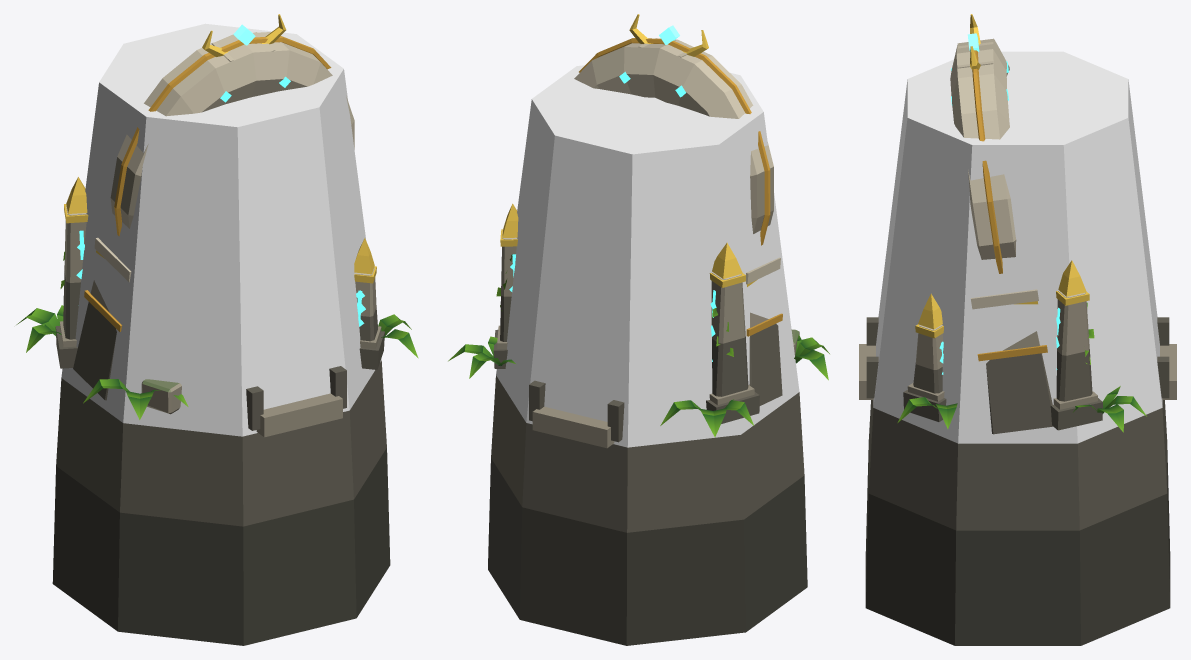
The model's file is ancient_celestial_moon_dial.glb.
3 renders of one model, left to right at view 1: azimuth 30°, elevation 25°; view 2: azimuth 150°, elevation 25°; view 3: azimuth 270°, elevation 25°, orthographic. The views are drawn at different scales.
Visible parts, largest first — view 1: ancient_celestial_moon_dial, col_moondial_base; view 2: ancient_celestial_moon_dial, col_moondial_base; view 3: ancient_celestial_moon_dial, col_moondial_base.
Boxes of the visible parts, x1,y1,x2,y2 form: ancient_celestial_moon_dial: [16, 14, 418, 645]; col_moondial_base: [61, 23, 381, 436]; ancient_celestial_moon_dial: [448, 14, 829, 645]; col_moondial_base: [496, 65, 799, 447]; ancient_celestial_moon_dial: [859, 14, 1176, 645]; col_moondial_base: [873, 51, 1162, 443].
Bounding box in the file's own units: 5.57 × 9.41 × 4.92.
